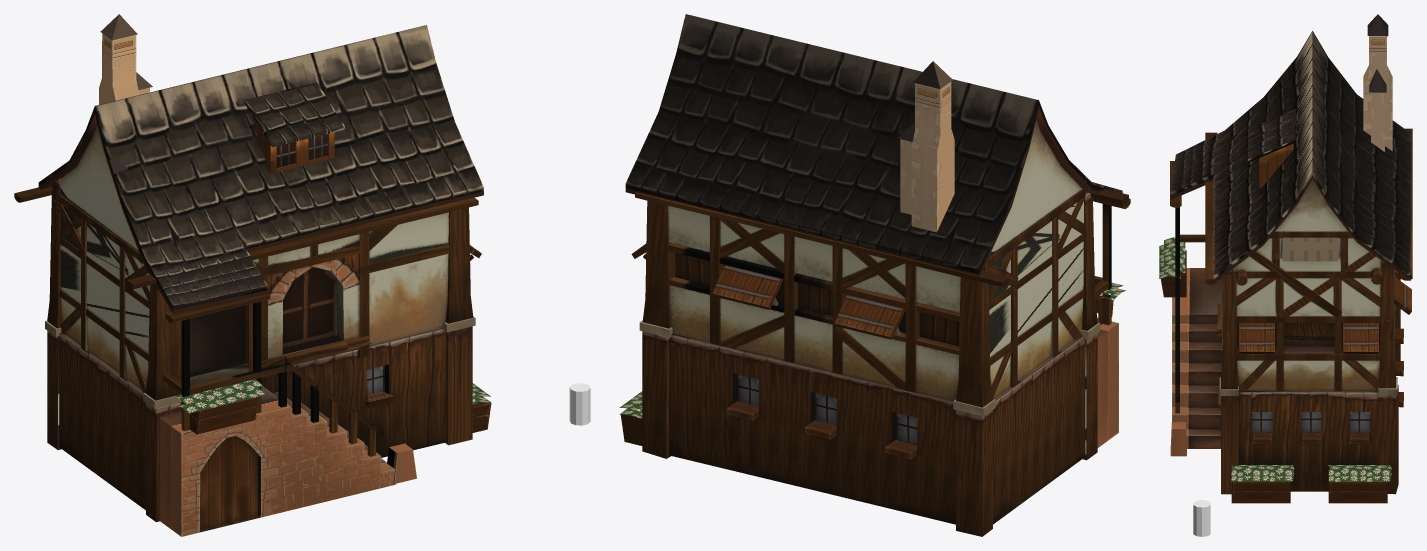
3 views of the same model, side by side, from view 1: azimuth 30°, elevation 25°; view 2: azimuth 150°, elevation 25°; view 3: azimuth 270°, elevation 25° (orthographic). The views are drawn at different scales.
Size of the model in its own units: 8.38 by 7.47 by 4.65.
Materials: 8 (7 with a texture image).
